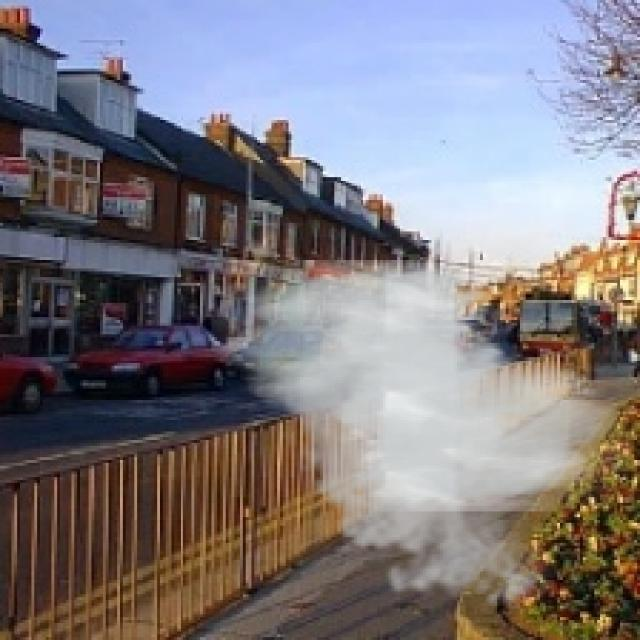Smoke: (212, 260, 628, 617)
